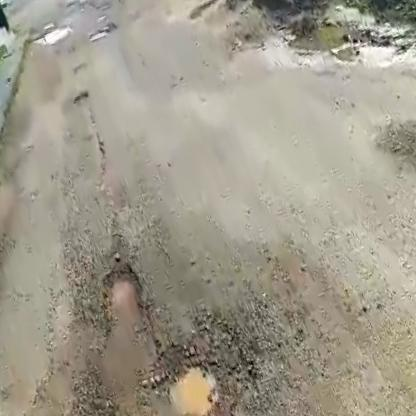pothole: (93, 262, 155, 334), (158, 355, 227, 416), (27, 23, 75, 52)
